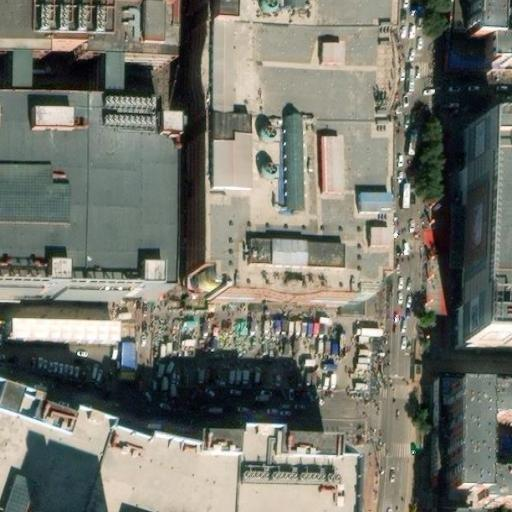building: (190, 0, 387, 286), (0, 61, 174, 302), (0, 411, 332, 512), (460, 124, 512, 331), (446, 385, 478, 501), (7, 302, 117, 329), (476, 465, 512, 501), (478, 379, 512, 410), (478, 42, 512, 65), (116, 338, 137, 370)
